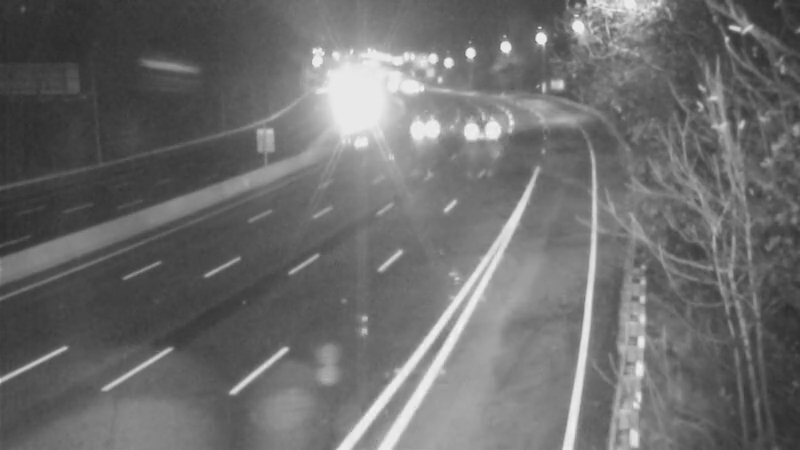vehicle: (398, 99, 448, 149), (464, 105, 514, 155)
